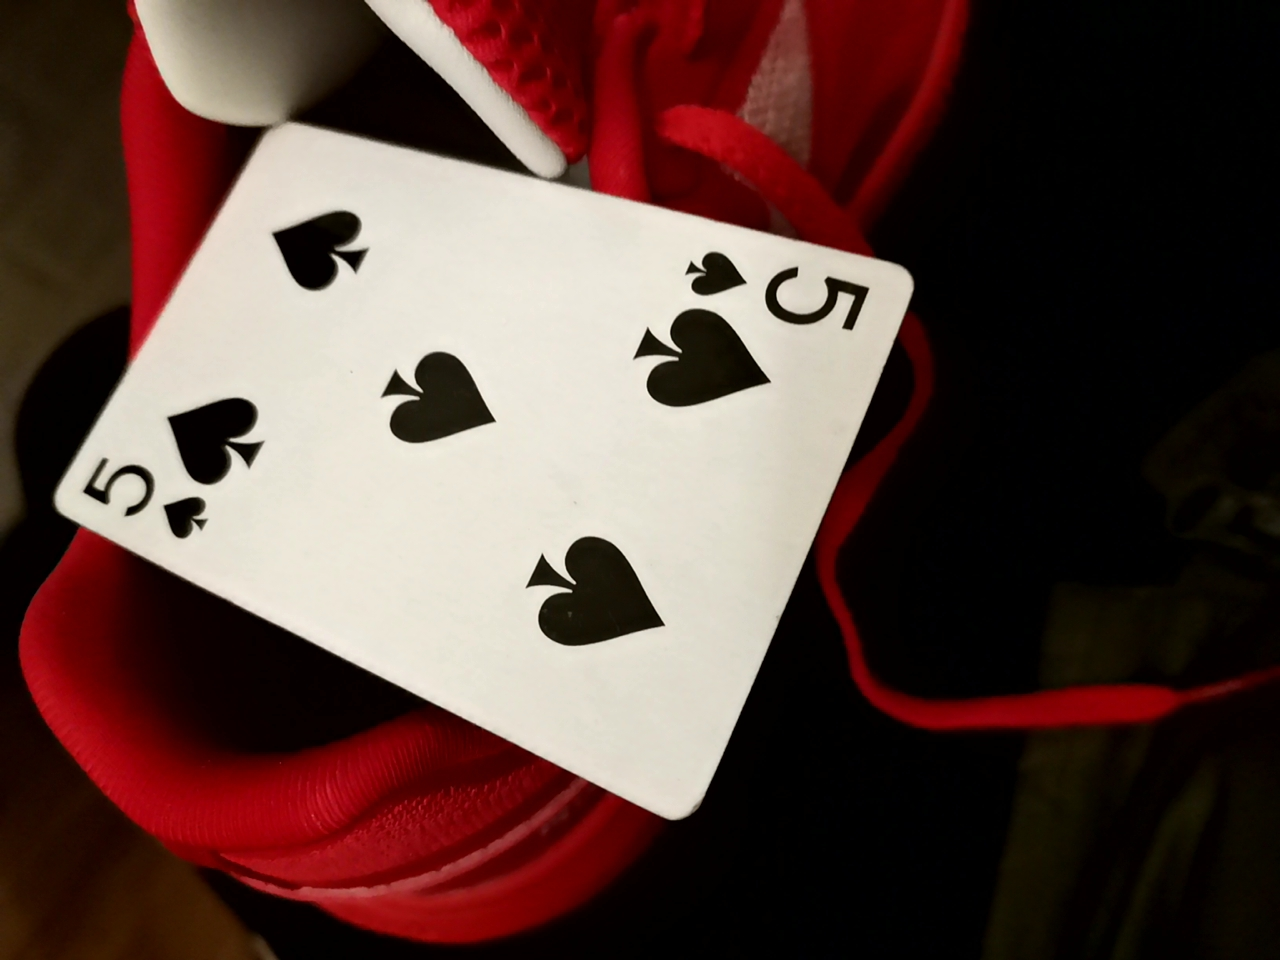ht 5: (31, 113, 907, 830)
